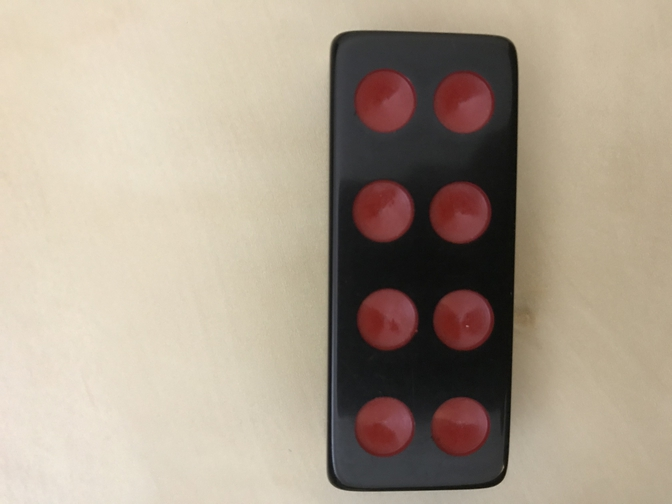man: (325, 29, 517, 491)
